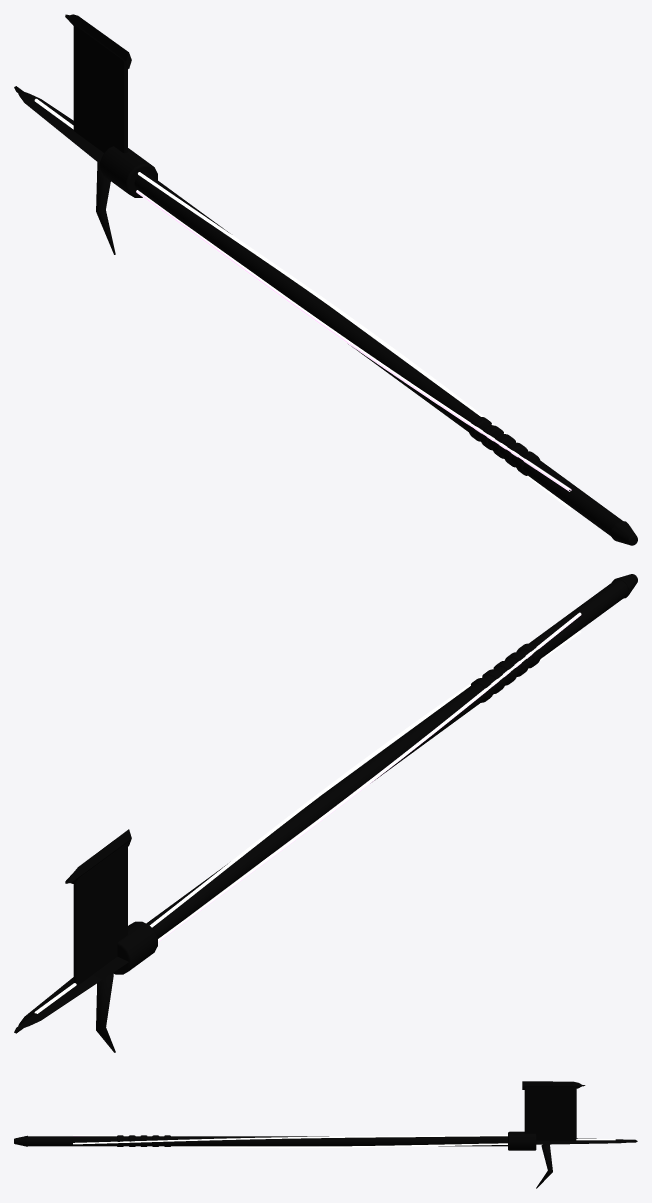
The model's file is alabarda.glb.
3 views of the same model, one above another, from view 1: azimuth 30°, elevation 25°; view 2: azimuth 150°, elevation 25°; view 3: azimuth 270°, elevation 25° (orthographic). The views are drawn at different scales.
Visible parts, largest first — view 1: alabarda; view 2: alabarda; view 3: alabarda.
Part boxes in pixels (box(x1,y1,x2,y2)): alabarda: box(14, 14, 637, 545); alabarda: box(14, 574, 637, 1052); alabarda: box(14, 1081, 637, 1188).
Size of the model in its own units: 0.078 by 0.501 by 2.64.
3 materials, 1 textured.
